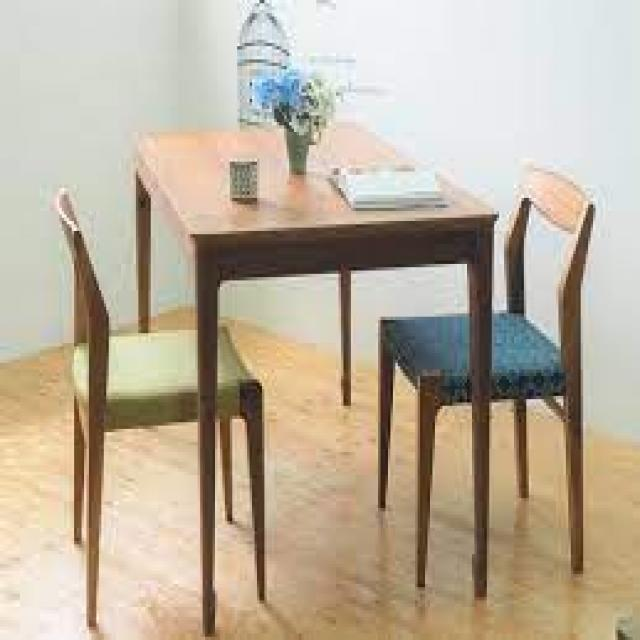Table: (121, 109, 514, 640)
